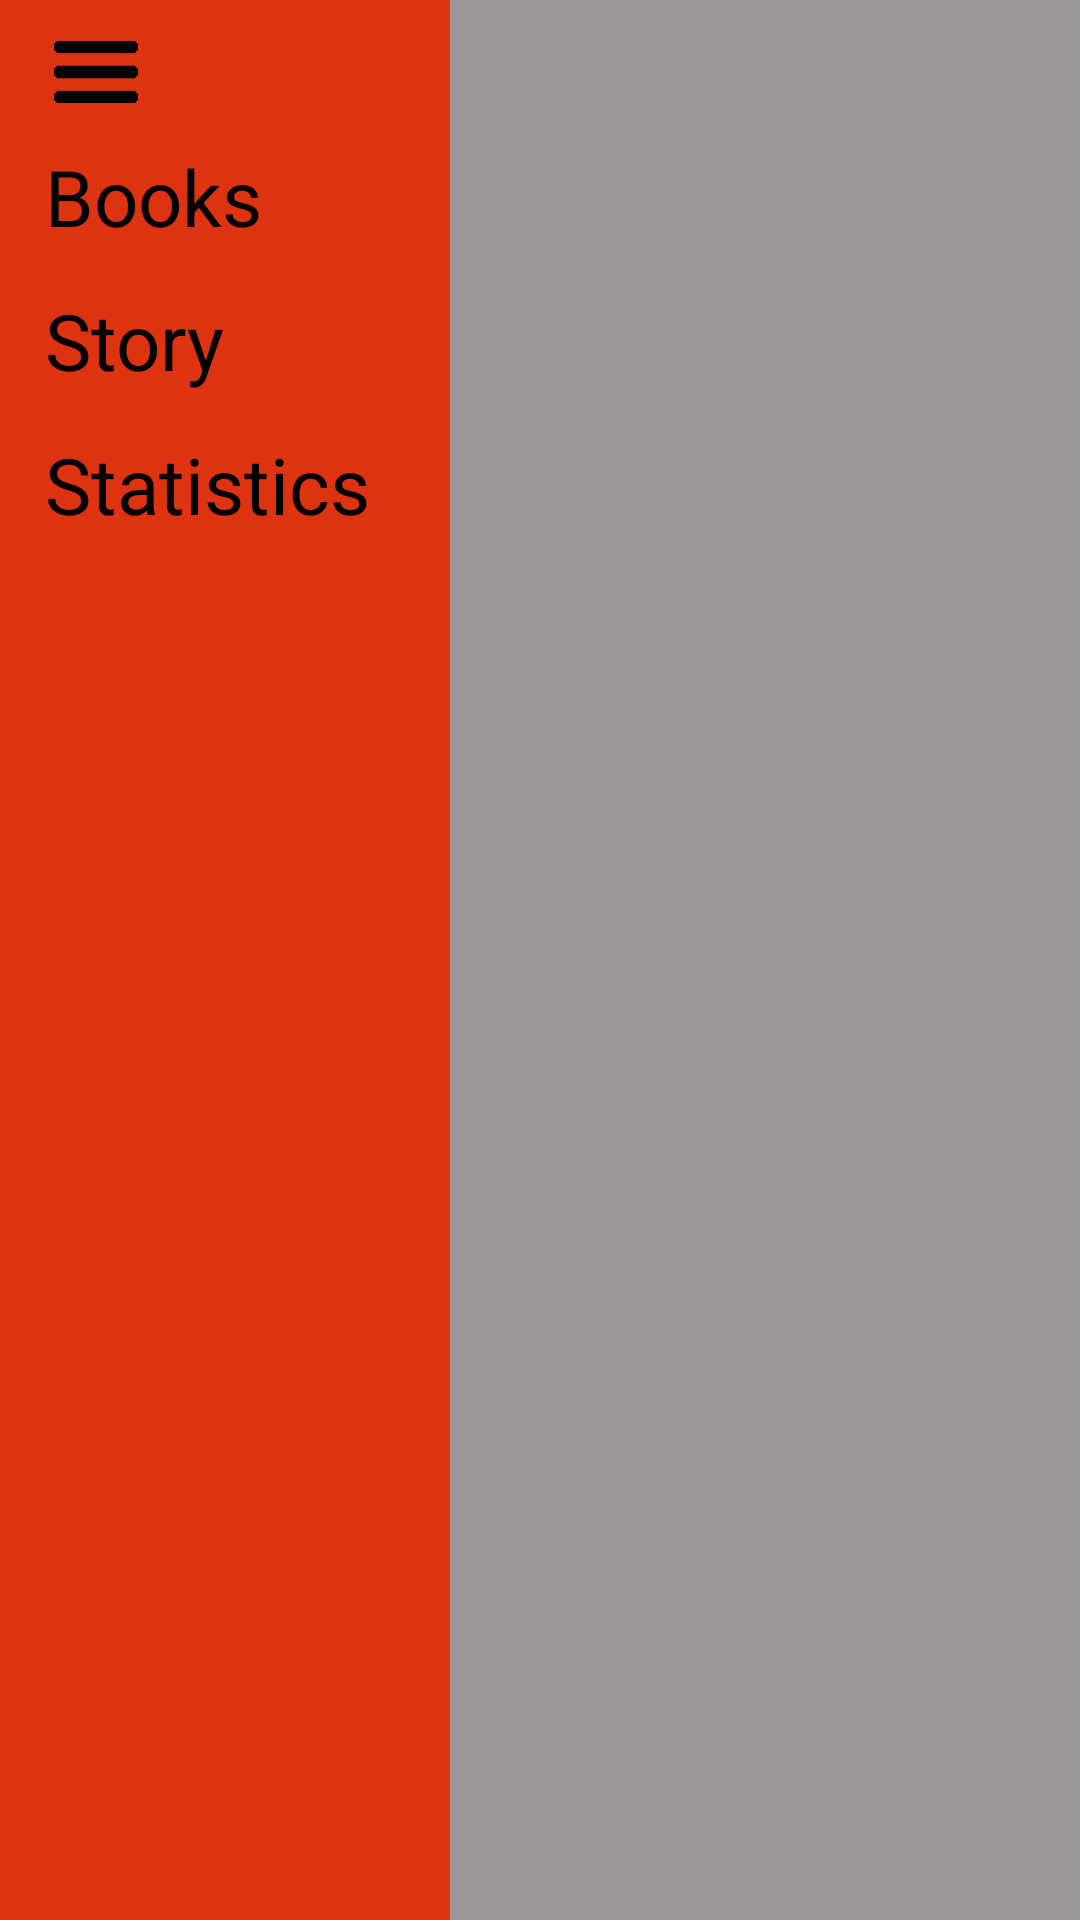

Icon click points for this 1080×1920 phone screenshot, format (x=x, y=y):
open list: (x=96, y=72)
